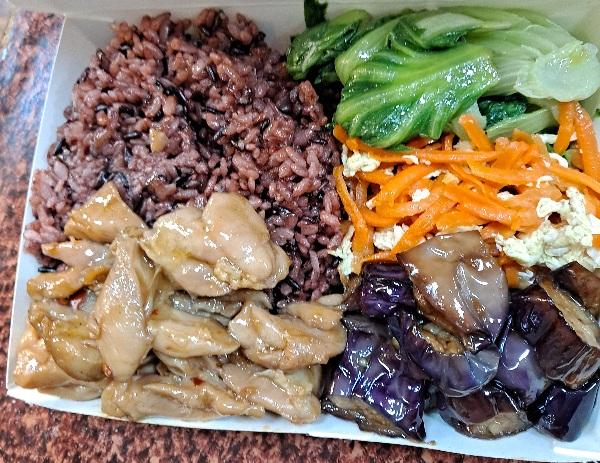big grilled chicken leg: (2, 7, 600, 463)
braised fish: (62, 19, 342, 218)
braised fish fillet: (339, 250, 590, 447), (339, 131, 599, 272), (329, 0, 591, 138)
braised pork: (32, 190, 336, 426)
